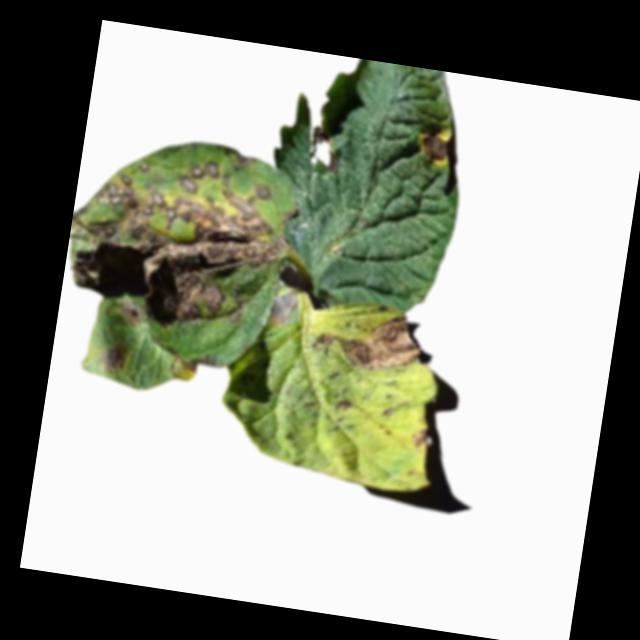Early_blight: (59, 143, 297, 339), (308, 304, 426, 379), (307, 123, 343, 175), (167, 349, 216, 383), (416, 129, 451, 167), (99, 343, 130, 373), (115, 299, 145, 328), (411, 429, 429, 450), (336, 397, 354, 414)
